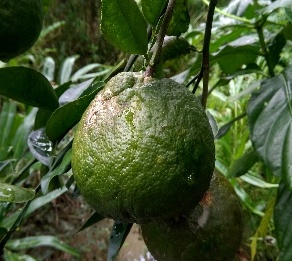Cam: (67, 68, 215, 225)
